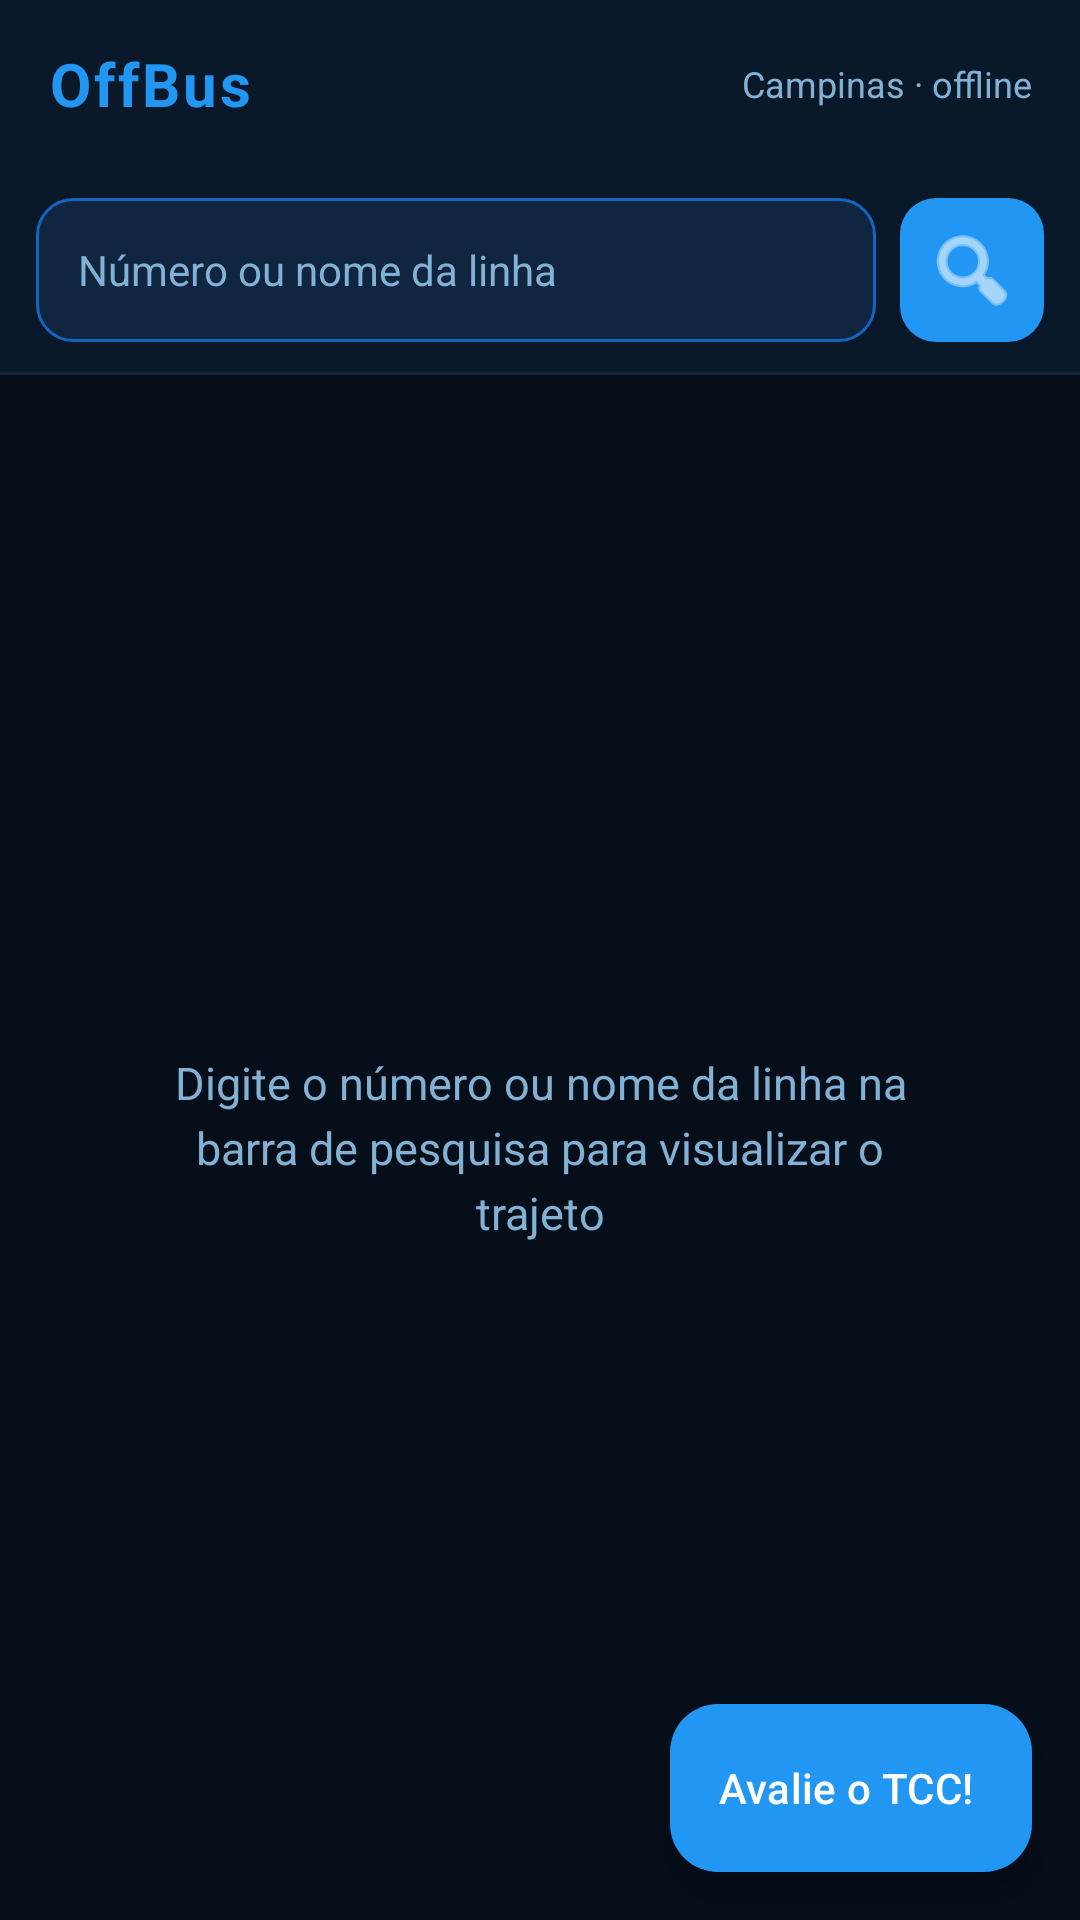

Icons on this 1080×1920 Android screen, each with the point to tap as (x=x, y=y):
Buscar: (x=972, y=270)
